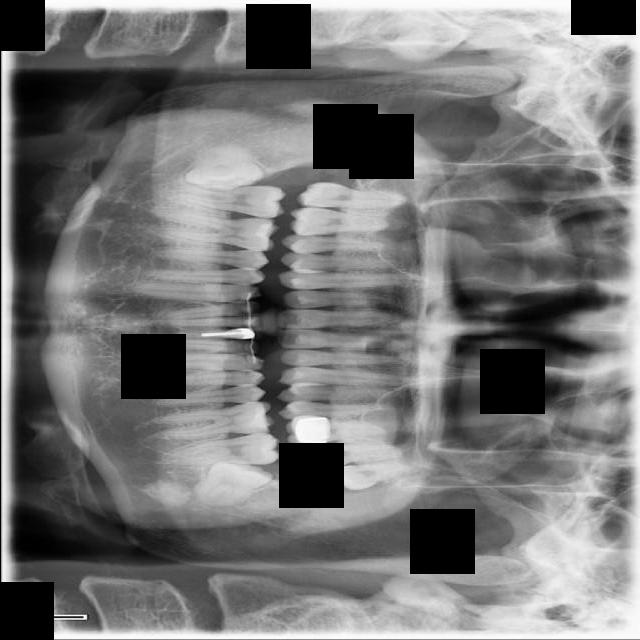52: (284, 413, 331, 447), (220, 328, 254, 339)
73: (175, 330, 226, 339), (25, 606, 49, 618)
BioHorizons Implant: (292, 440, 416, 471)
BioLife Implant: (322, 459, 417, 493)
Biomet 3i Implant: (185, 440, 277, 518)
Blue Sky Bio Implant: (163, 432, 280, 467)
Caries: (295, 181, 407, 210)
Implant: (169, 183, 286, 219)
Keystone Dental Implant: (181, 139, 266, 195)
